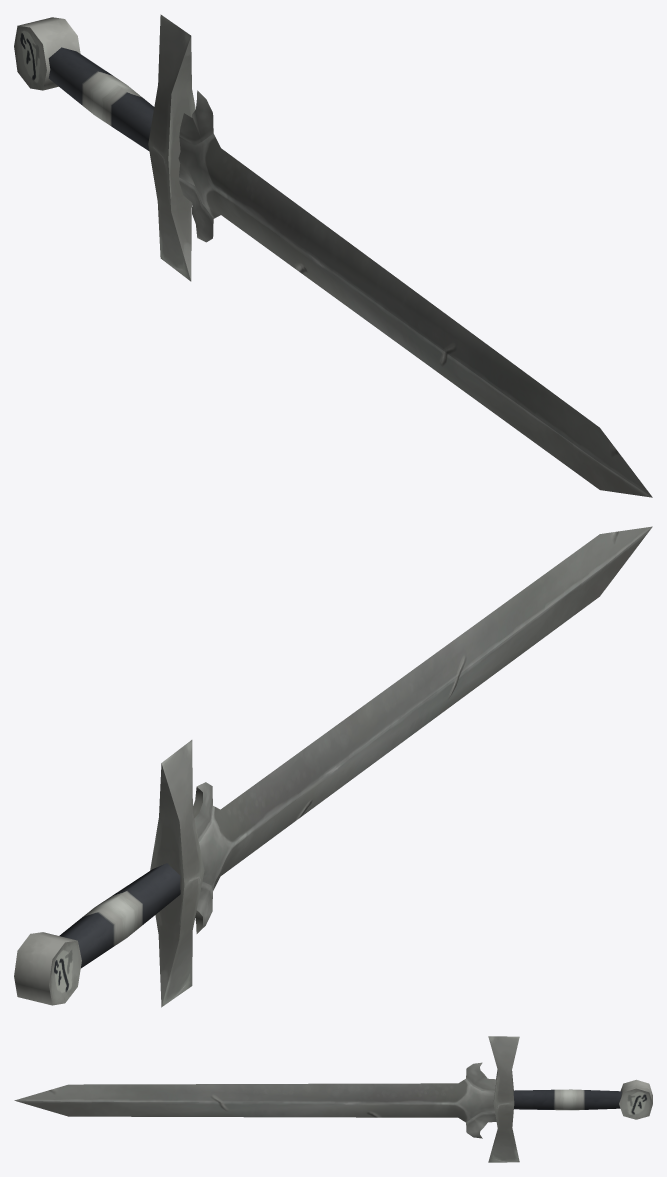
File: Sword1_GPD.fbx
3 views of the same model, one above another, from view 1: azimuth 30°, elevation 25°; view 2: azimuth 150°, elevation 25°; view 3: azimuth 270°, elevation 25° (orthographic). The views are drawn at different scales.
Visible parts, largest first — view 1: Sword2_GPD_MatTest; view 2: Sword2_GPD_MatTest; view 3: Sword2_GPD_MatTest.
Boxes of the visible parts, x1,y1,x2,y2 form: Sword2_GPD_MatTest: (14,14,652,497); Sword2_GPD_MatTest: (14,526,652,1007); Sword2_GPD_MatTest: (14,1036,652,1162).
Bounding box in the file's own units: 0.063 × 1.91 × 0.4184.
